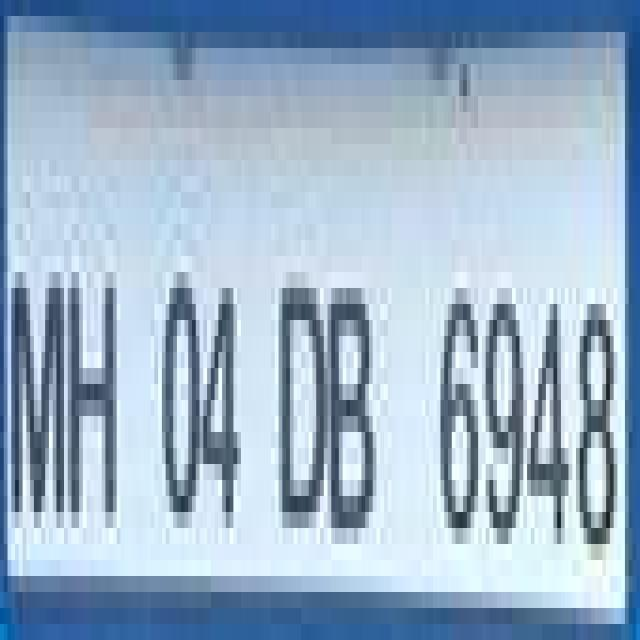license_plate: (8, 32, 602, 640)
